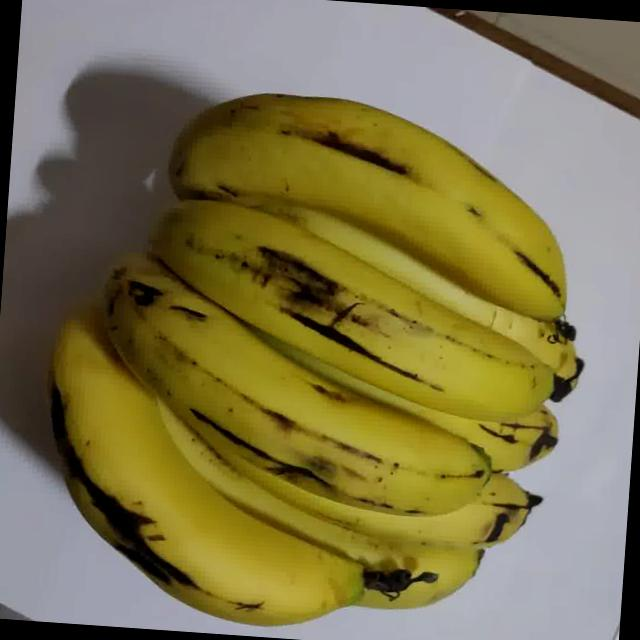banana_pacche: (0, 14, 628, 640)
